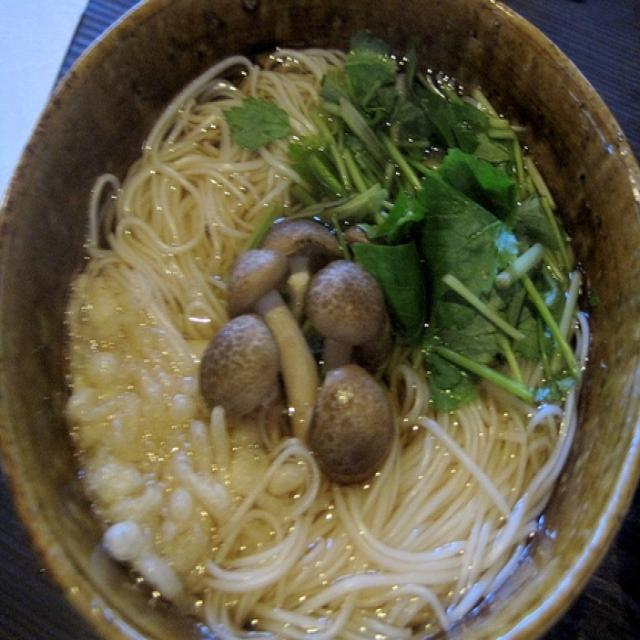面条主食: (0, 7, 621, 634)
